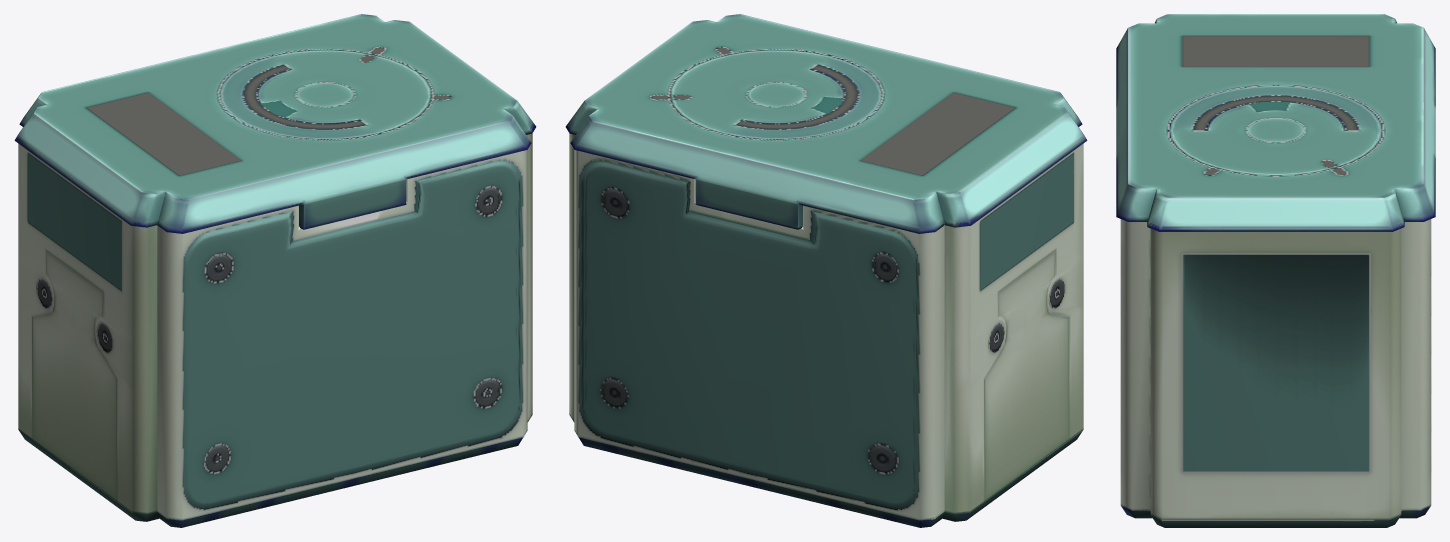
The model's file is Alum_Container_A_Lo.fbx.
3 renders of one model, left to right at view 1: azimuth 30°, elevation 25°; view 2: azimuth 150°, elevation 25°; view 3: azimuth 270°, elevation 25°, orthographic.
Parts seen in each view (by area): view 1: polySurface86, pCube3; view 2: polySurface86, pCube3; view 3: polySurface86, pCube3.
Boxes of the visible parts, left/top/right/bottom form: polySurface86: left=18, top=133, right=532, bottom=527; pCube3: left=14, top=14, right=536, bottom=233; polySurface86: left=569, top=133, right=1083, bottom=527; pCube3: left=565, top=14, right=1087, bottom=233; polySurface86: left=1120, top=219, right=1431, bottom=527; pCube3: left=1116, top=14, right=1435, bottom=231.
Size of the model in its own units: 45.5 by 34.89 by 30.92.
